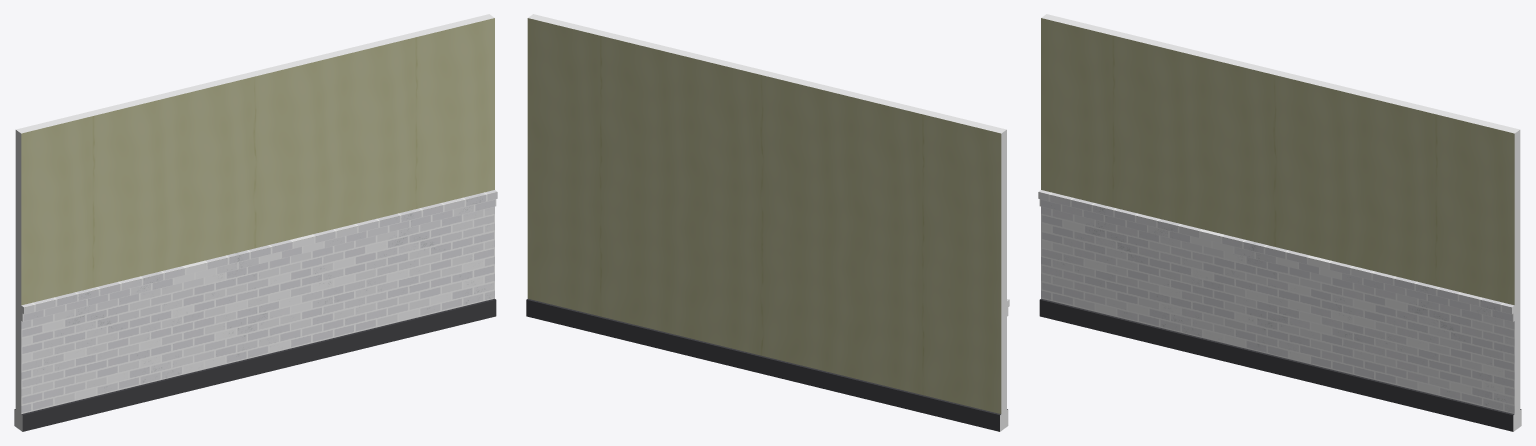
Rendered from SM_Buildings_Wall_5x3_01_WallpaperBack.fbx.
3 views of the same model, side by side, from view 1: azimuth 30°, elevation 25°; view 2: azimuth 150°, elevation 25°; view 3: azimuth 330°, elevation 25° (orthographic).
Visible parts, largest first — view 1: SM_Buildings_Wall_5x3_01_WallpaperBack; view 2: SM_Buildings_Wall_5x3_01_WallpaperBack; view 3: SM_Buildings_Wall_5x3_01_WallpaperBack.
Part boxes in pixels (box(x1,y1,x2,y2)): SM_Buildings_Wall_5x3_01_WallpaperBack: box(14, 14, 497, 431); SM_Buildings_Wall_5x3_01_WallpaperBack: box(526, 14, 1009, 431); SM_Buildings_Wall_5x3_01_WallpaperBack: box(1038, 14, 1521, 431).
Size of the model in its own units: 500 by 300 by 17.5.
Materials: 1 (1 with a texture image).
